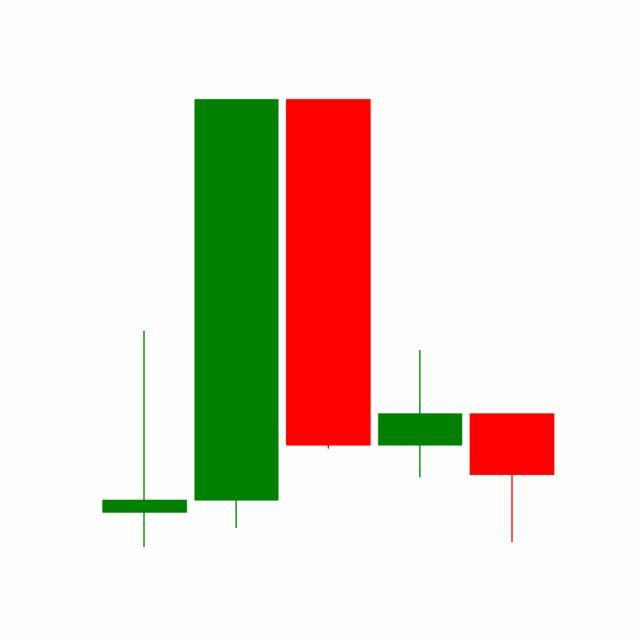Hammer: (466, 412, 559, 544)
